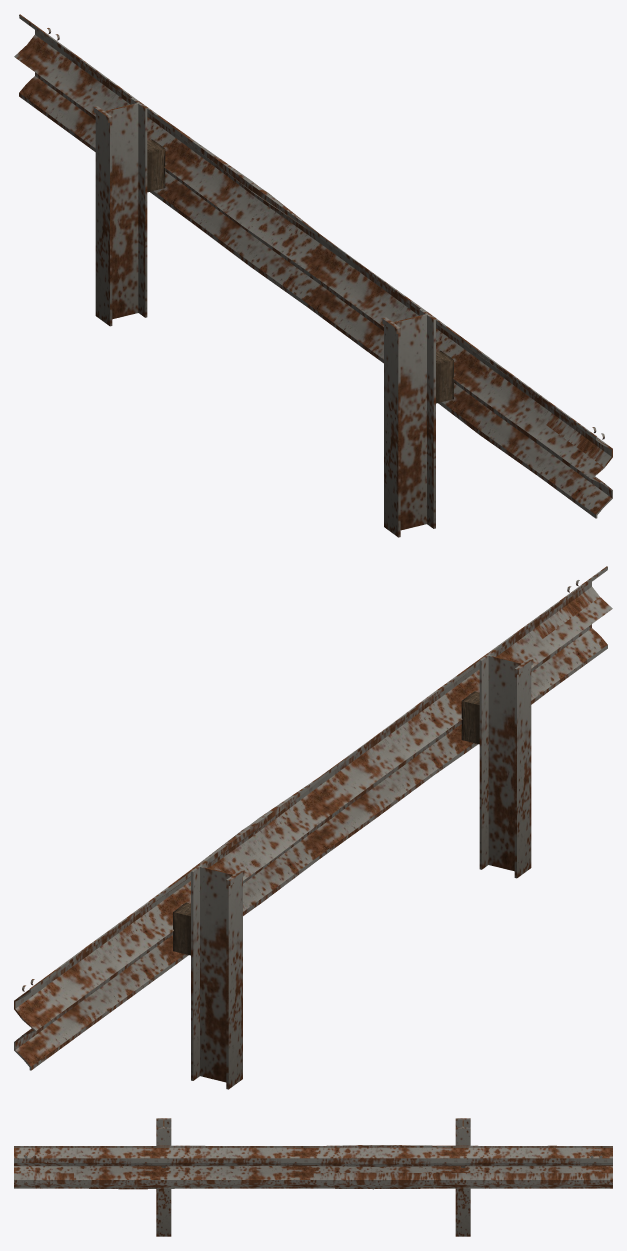
The model's file is guardrail_4m.glb.
The picture shows the model from 3 angles, top to bottom: view 1: azimuth 30°, elevation 25°; view 2: azimuth 150°, elevation 25°; view 3: azimuth 270°, elevation 25°; orthographic projection. The views are drawn at different scales.
Parts seen in each view (by area): view 1: guardrail_4m_galvanized, guardrail_4m_wood_rough; view 2: guardrail_4m_galvanized, guardrail_4m_wood_rough; view 3: guardrail_4m_galvanized.
Boxes of the visible parts, x1=… form: guardrail_4m_galvanized: x1=14, y1=14, x2=612, y2=537; guardrail_4m_wood_rough: x1=147, y1=139, x2=453, y2=403; guardrail_4m_galvanized: x1=14, y1=566, x2=612, y2=1089; guardrail_4m_wood_rough: x1=173, y1=691, x2=479, y2=955; guardrail_4m_galvanized: x1=14, y1=1118, x2=612, y2=1236.
Bounding box in the file's own units: 0.3273 × 0.8 × 4.
2 materials, 2 textured.
